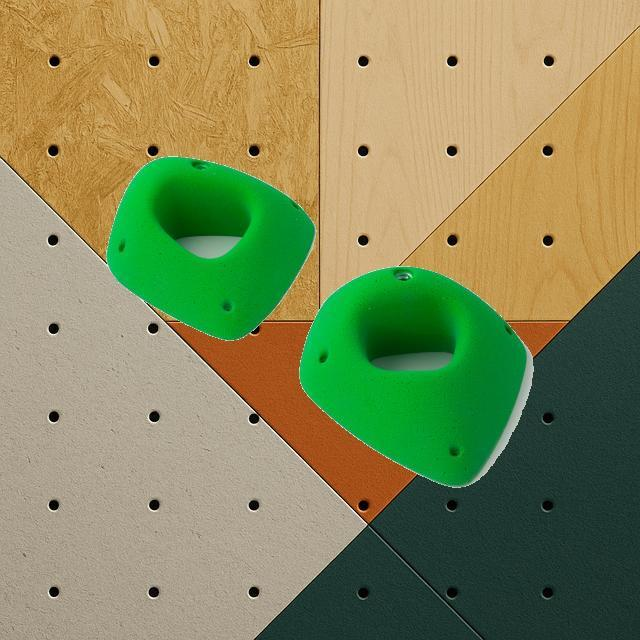Pocket: (298, 265, 528, 489), (104, 154, 316, 342)
